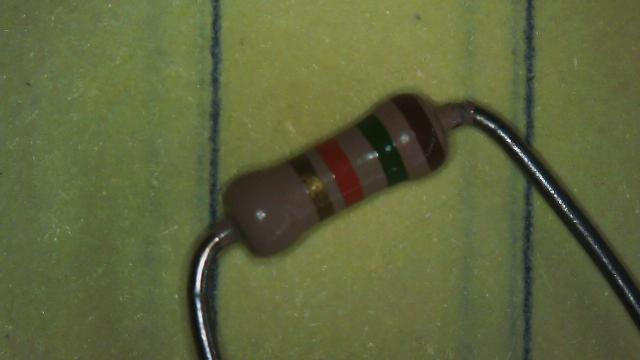brown: (390, 96, 444, 172)
gold: (292, 155, 331, 221)
green: (359, 116, 407, 186)
orange: (318, 141, 362, 206)
resistor: (204, 58, 494, 292)
